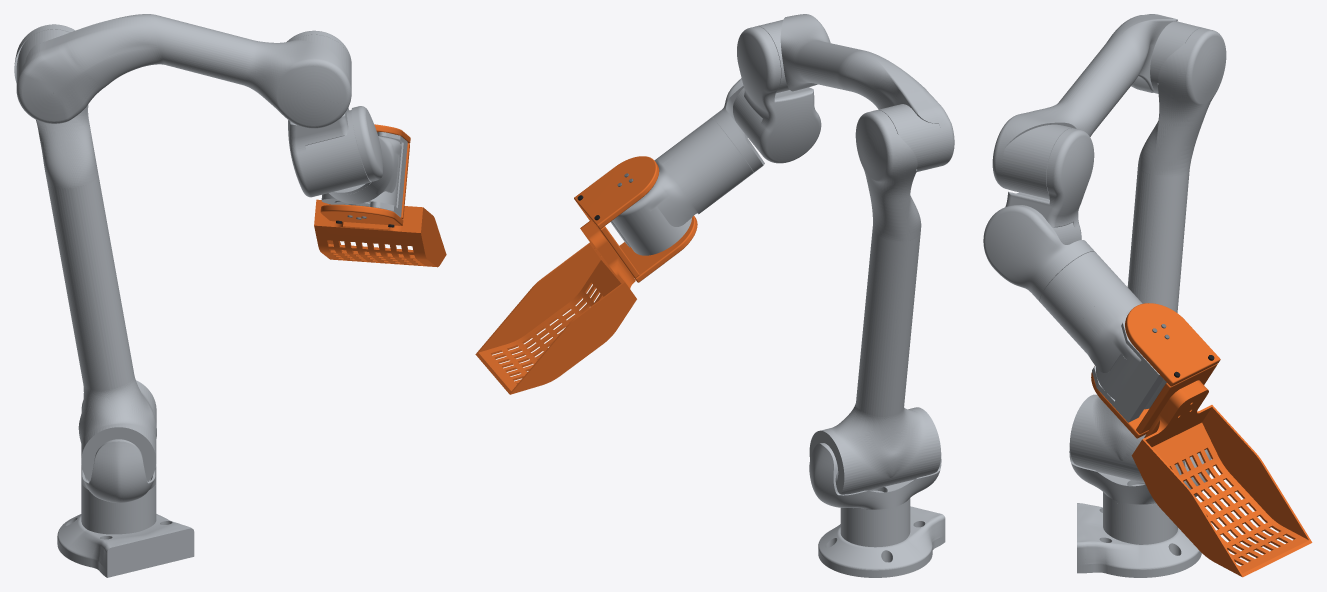
File: z1-tool.glb
3 views of the same model, side by side, from view 1: azimuth 30°, elevation 25°; view 2: azimuth 150°, elevation 25°; view 3: azimuth 270°, elevation 25° (orthographic). The views are drawn at different scales.
Parts seen in each view (by area): view 1: Z1-Tool.link03.0.visual0.web, Z1-Tool.link02.0.visual0.web, Z1-Tool.link00.0.visual0.web, Z1.tool.scoop_1_CAD.web, Z1-Tool.link04.0.visual0.web, Z1-Tool.link01.0.visual0.web, Z1.mount.gripper_mount_housing.web, Z1.tool.mounting_yoke.web, Z1-Tool.link05.0.visual0.web, Z1-Tool.link06.0.visual0.web; view 2: Z1-Tool.link02.0.visual0.web, Z1.tool.scoop_1_CAD.web, Z1-Tool.link03.0.visual0.web, Z1-Tool.link04.0.visual0.web, Z1-Tool.link00.0.visual0.web, Z1.mount.gripper_mount_housing.web, Z1.tool.mounting_yoke.web, Z1-Tool.link01.0.visual0.web, Z1-Tool.link06.0.visual0.web, Z1-Tool.link05.0.visual0.web; view 3: Z1-Tool.link02.0.visual0.web, Z1.tool.scoop_1_CAD.web, Z1-Tool.link03.0.visual0.web, Z1-Tool.link00.0.visual0.web, Z1.mount.gripper_mount_housing.web, Z1.tool.mounting_yoke.web, Z1-Tool.link05.0.visual0.web, Z1-Tool.link04.0.visual0.web, Z1-Tool.link06.0.visual0.web, Z1-Tool.link01.0.visual0.web.
Part boxes in pixels (box(x1,y1,x2,y2)): Z1-Tool.link03.0.visual0.web: box(16, 14, 351, 128); Z1-Tool.link02.0.visual0.web: box(14, 24, 156, 481); Z1-Tool.link00.0.visual0.web: box(57, 484, 194, 577); Z1.tool.scoop_1_CAD.web: box(314, 199, 446, 267); Z1-Tool.link04.0.visual0.web: box(287, 30, 371, 197); Z1-Tool.link01.0.visual0.web: box(81, 439, 156, 502); Z1.mount.gripper_mount_housing.web: box(321, 132, 407, 217); Z1.tool.mounting_yoke.web: box(320, 124, 410, 225); Z1-Tool.link05.0.visual0.web: box(331, 106, 382, 194); Z1-Tool.link06.0.visual0.web: box(329, 138, 389, 201); Z1-Tool.link02.0.visual0.web: box(809, 110, 941, 494); Z1.tool.scoop_1_CAD.web: box(475, 220, 636, 394); Z1-Tool.link03.0.visual0.web: box(757, 14, 954, 172); Z1-Tool.link04.0.visual0.web: box(733, 26, 821, 163); Z1-Tool.link00.0.visual0.web: box(818, 490, 945, 577); Z1.mount.gripper_mount_housing.web: box(610, 146, 715, 255); Z1.tool.mounting_yoke.web: box(574, 156, 697, 282); Z1-Tool.link01.0.visual0.web: box(809, 443, 941, 511); Z1-Tool.link06.0.visual0.web: box(674, 117, 753, 200); Z1-Tool.link05.0.visual0.web: box(712, 78, 764, 172); Z1-Tool.link02.0.visual0.web: box(1069, 28, 1226, 483); Z1.tool.scoop_1_CAD.web: box(1131, 380, 1312, 577); Z1-Tool.link03.0.visual0.web: box(992, 14, 1202, 199); Z1-Tool.link00.0.visual0.web: box(1077, 484, 1201, 577); Z1.mount.gripper_mount_housing.web: box(1072, 287, 1166, 422); Z1.tool.mounting_yoke.web: box(1091, 303, 1220, 438); Z1-Tool.link05.0.visual0.web: box(983, 205, 1094, 301); Z1-Tool.link04.0.visual0.web: box(1005, 128, 1094, 244); Z1-Tool.link06.0.visual0.web: box(1040, 251, 1127, 337); Z1-Tool.link01.0.visual0.web: box(1069, 447, 1211, 506).
Size of the model in its own units: 0.4718 by 0.5056 by 0.2853.
